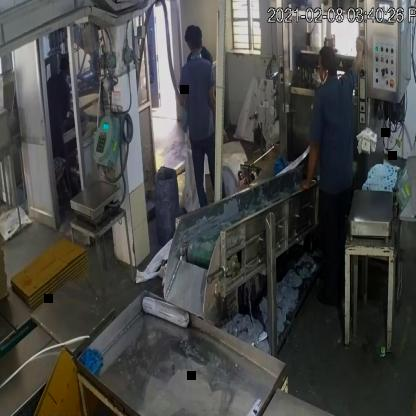no_glove: (297, 130, 328, 190), (349, 37, 375, 94)
